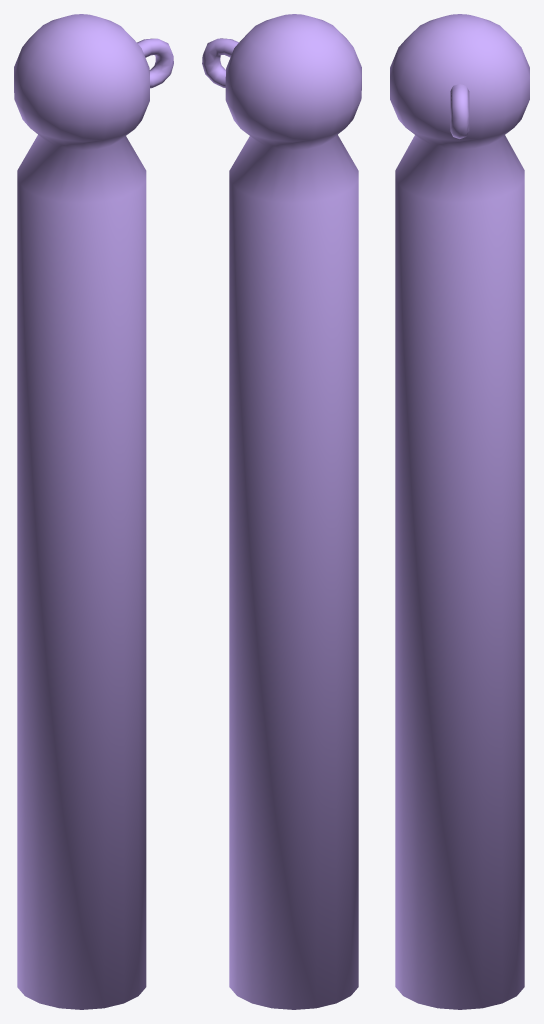
The model's file is streetpost001.fbx.
The picture shows the model from 3 angles, left to right: view 1: azimuth 30°, elevation 25°; view 2: azimuth 150°, elevation 25°; view 3: azimuth 270°, elevation 25°; orthographic projection.
Parts seen in each view (by area): view 1: streetpost001_reference; view 2: streetpost001_reference; view 3: streetpost001_reference.
Boxes of the visible parts, x1,y1,x2,y2 form: streetpost001_reference: (14, 14, 173, 1009); streetpost001_reference: (202, 14, 361, 1009); streetpost001_reference: (390, 14, 529, 1009).
Bounding box in the file's own units: 836 × 5133 × 676.
